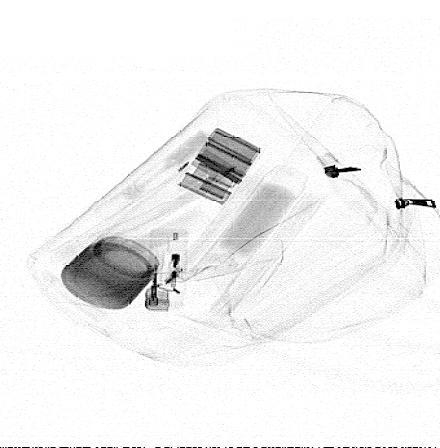Lighter: (145, 229, 189, 311)
